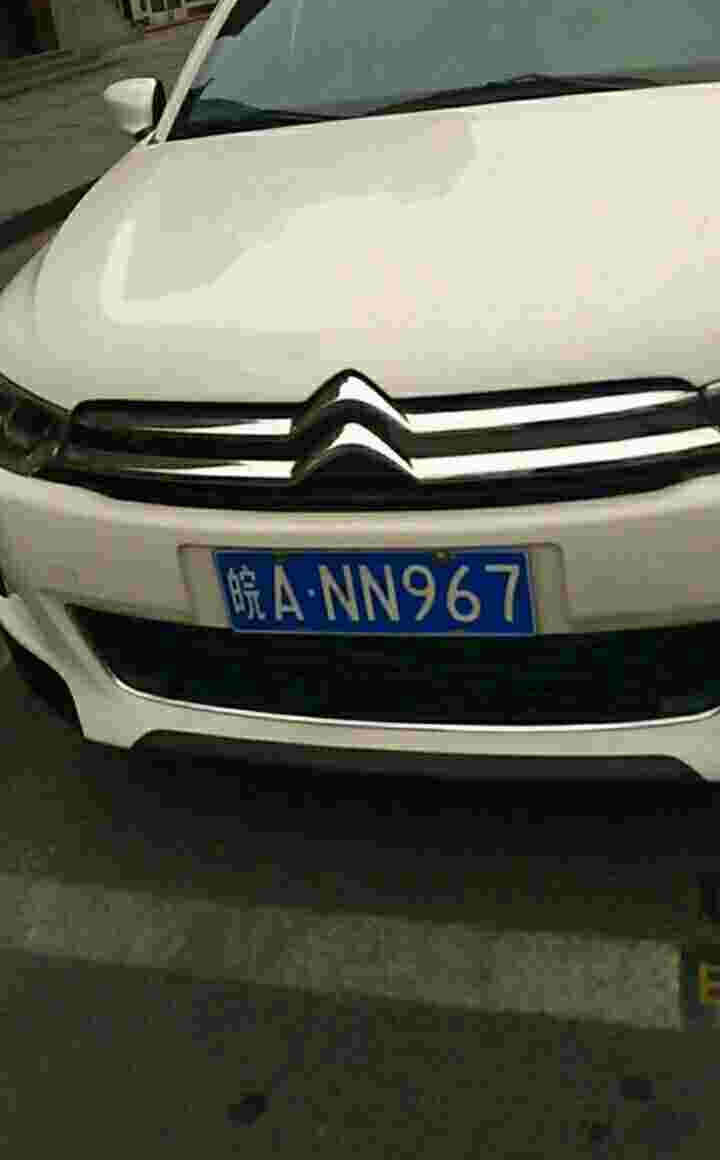license_plate: (205, 542, 548, 644)
